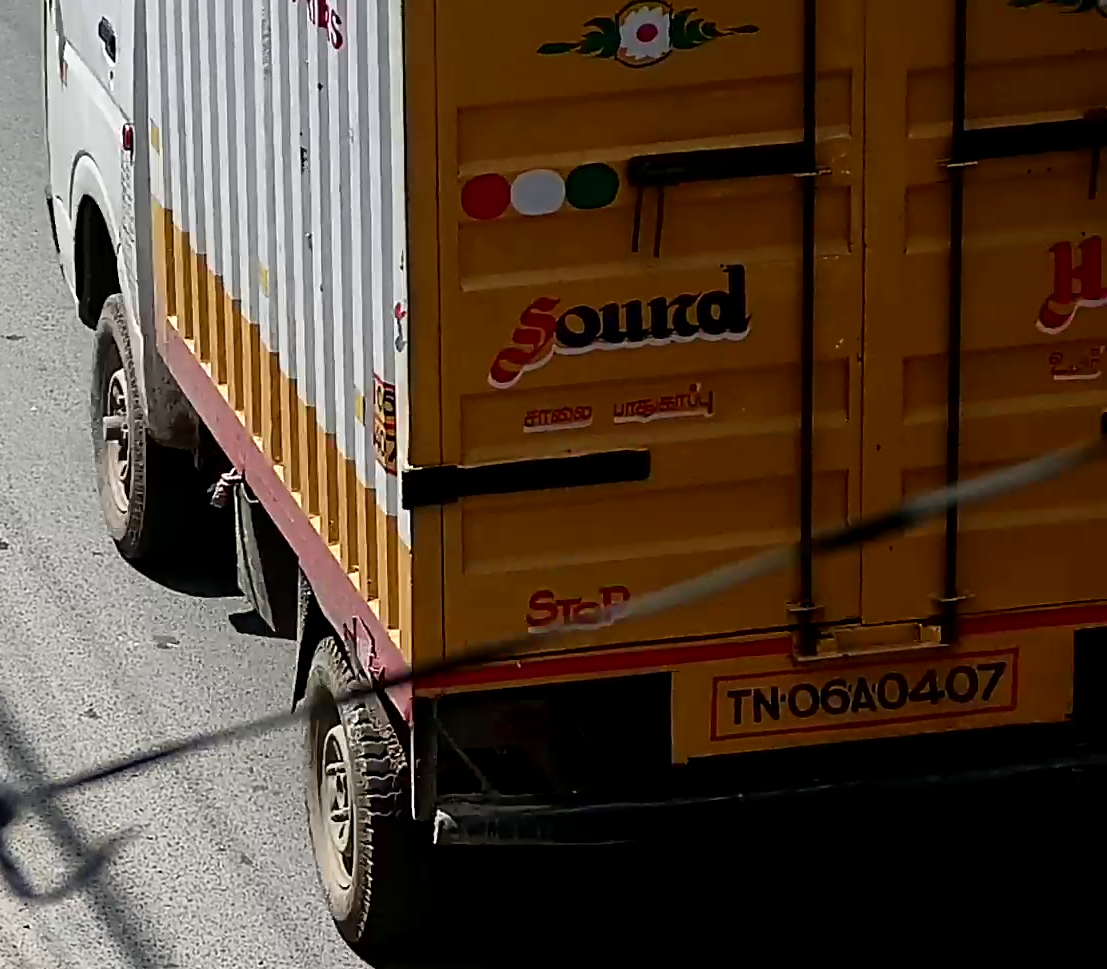0: (946, 664, 977, 703), (878, 671, 906, 709), (787, 682, 818, 716)
4: (908, 668, 944, 708)
6: (819, 676, 849, 714)
7: (979, 661, 1005, 699)
A: (850, 675, 876, 714)
N: (752, 683, 778, 724)
P9: (707, 647, 1018, 746)
T: (726, 687, 750, 724)
